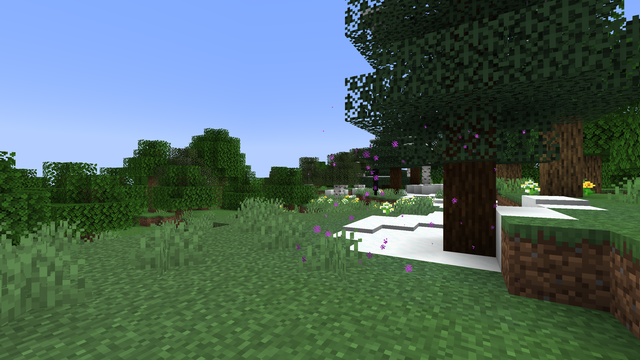endermens: (371, 167, 378, 194)
